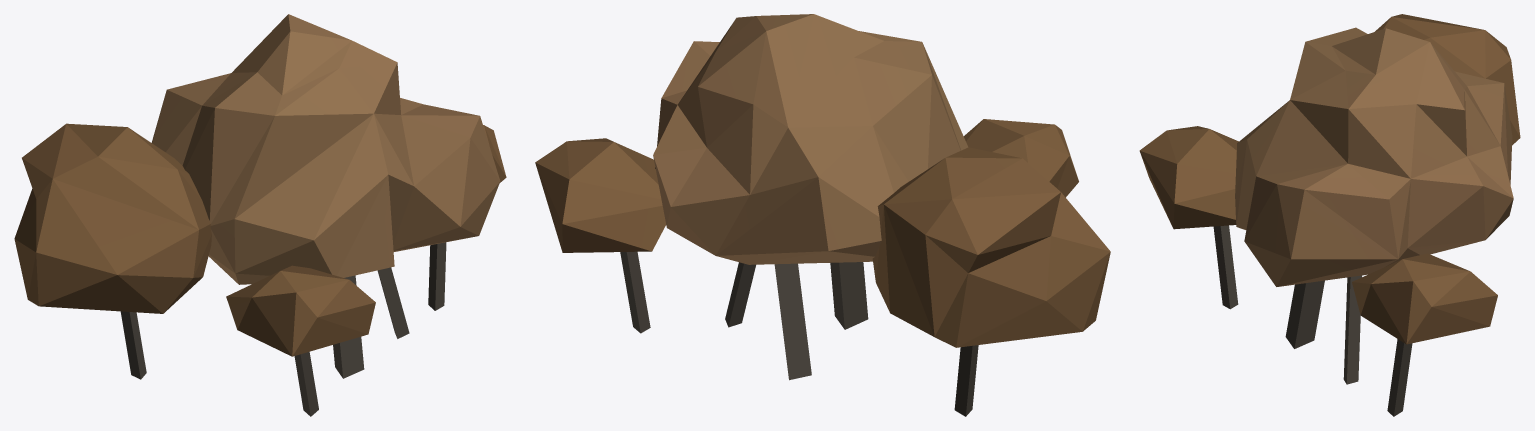
File: SM_Plant_Bush_01.glb
The picture shows the model from 3 angles, left to right: view 1: azimuth 30°, elevation 25°; view 2: azimuth 150°, elevation 25°; view 3: azimuth 270°, elevation 25°; orthographic projection. The views are drawn at different scales.
Visible parts, largest first — view 1: SM_Plant_Bush_01; view 2: SM_Plant_Bush_01; view 3: SM_Plant_Bush_01.
Boxes of the visible parts, x1,y1,x2,y2 form: SM_Plant_Bush_01: (14, 14, 506, 416); SM_Plant_Bush_01: (535, 14, 1110, 416); SM_Plant_Bush_01: (1139, 14, 1520, 416).
Bounding box in the file's own units: 244 × 152 × 167.
Materials: 1 (1 with a texture image).
